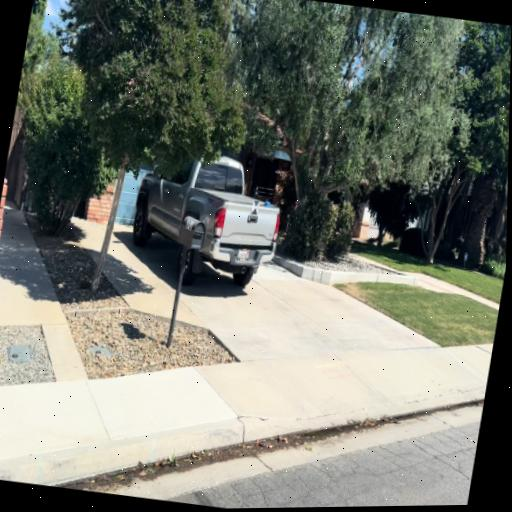target1: (251, 200, 260, 216)
